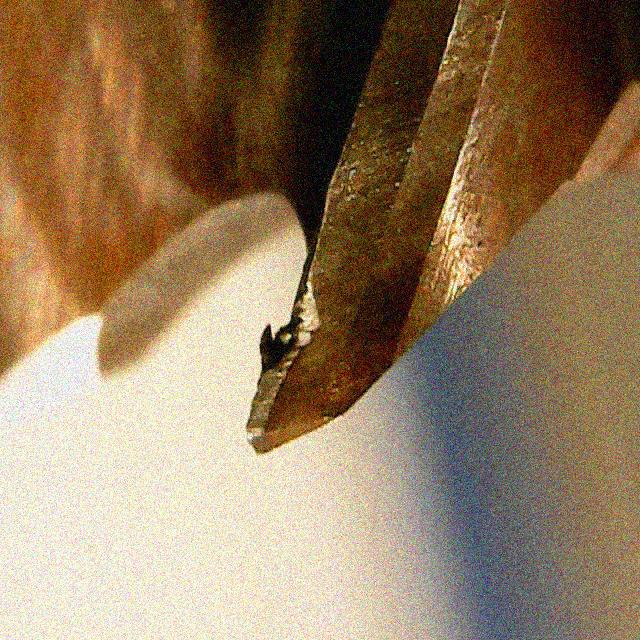Tool-wear-class-2: (214, 161, 431, 481)
